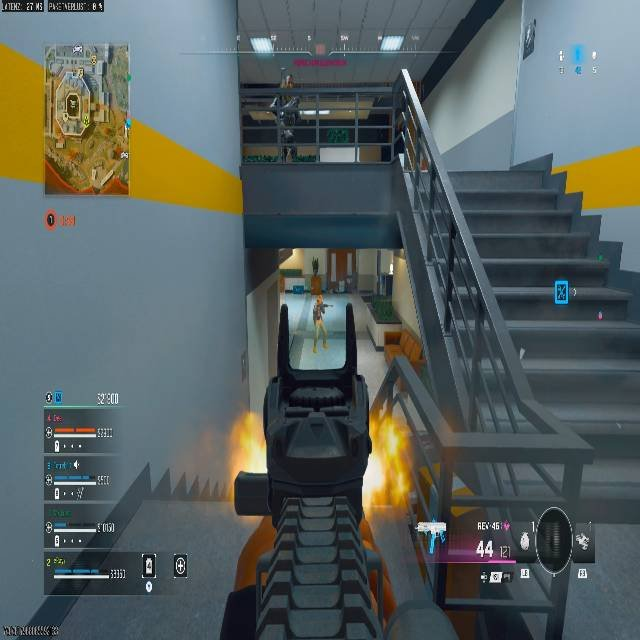player: (270, 74, 301, 162), (311, 295, 329, 352), (282, 73, 296, 88)
